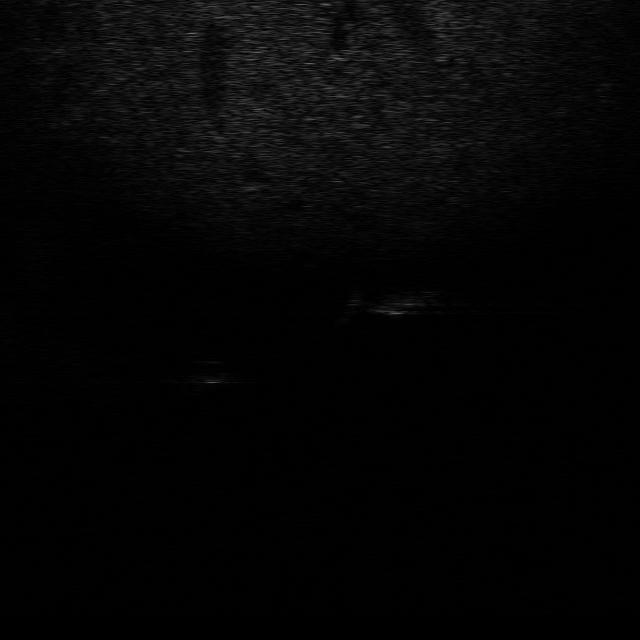ball: (168, 354, 232, 392)
human body: (328, 281, 442, 327)
